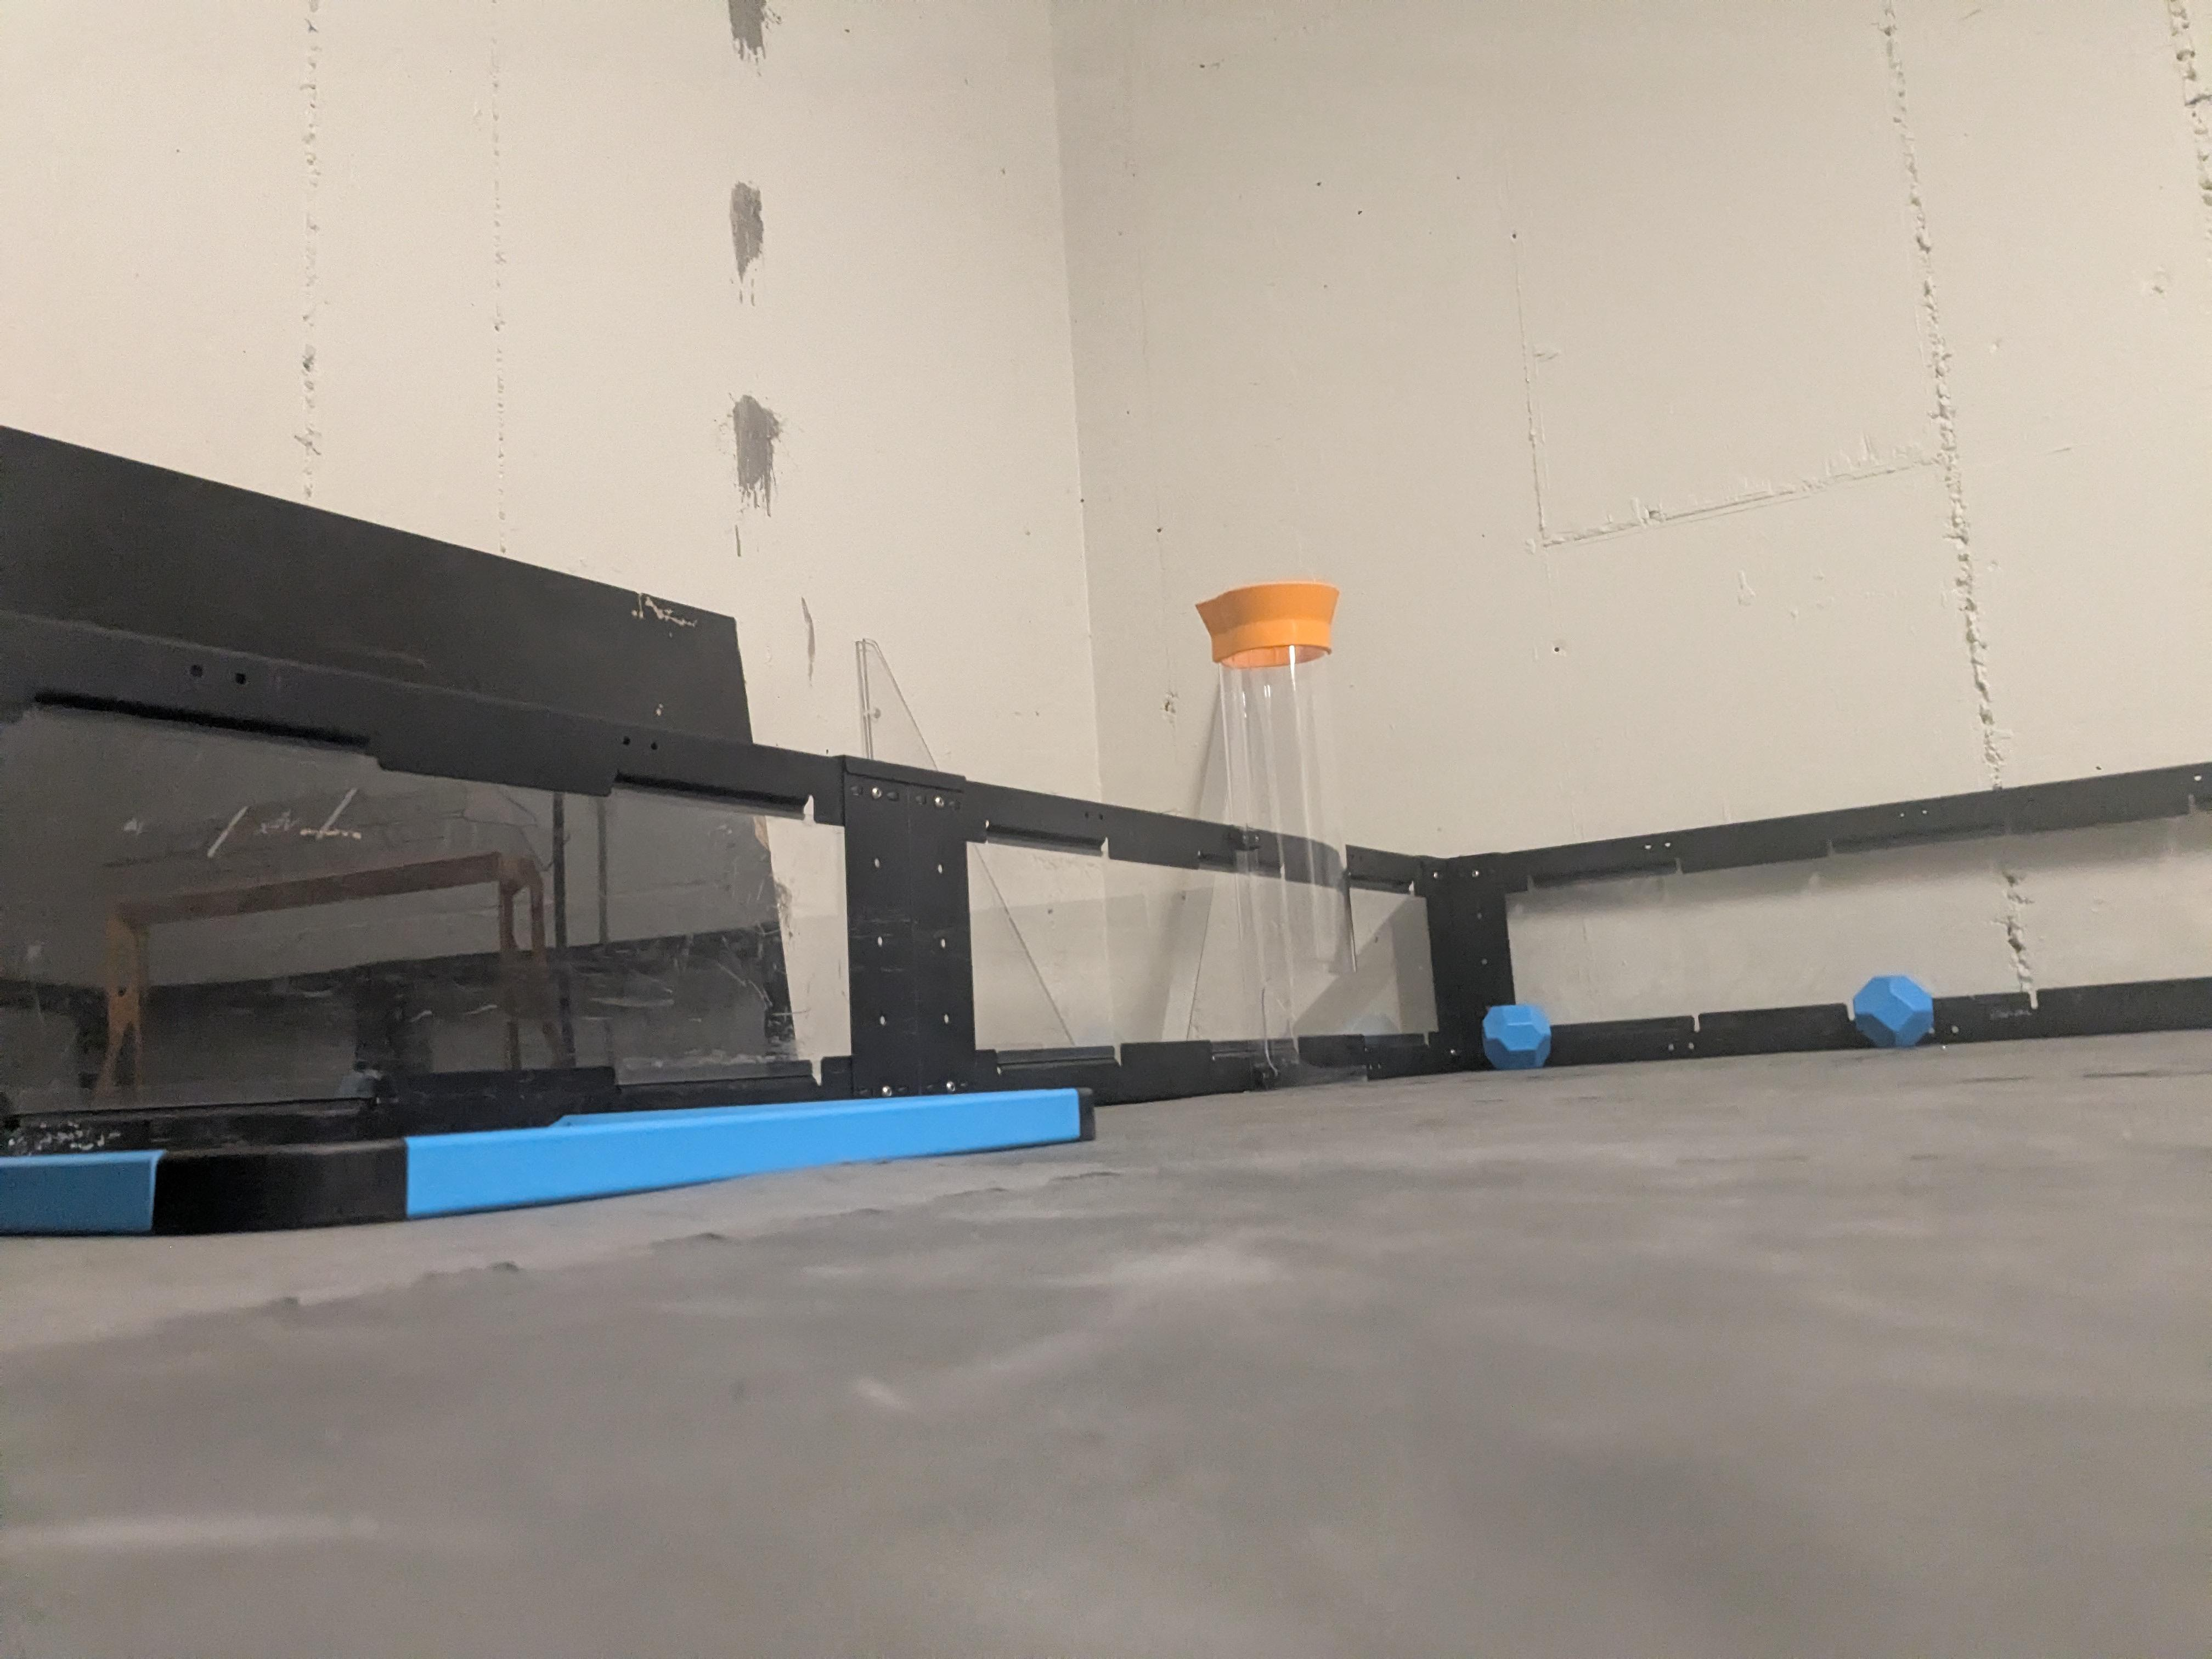Vex-Pieces-BLUE: (3, 1154, 155, 1230), (1851, 974, 1932, 1046), (1482, 1004, 1550, 1070)
